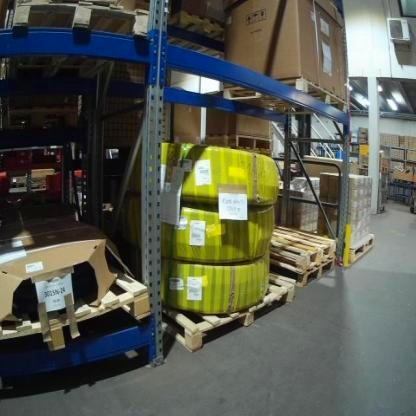pallets: (159, 221, 375, 351), (0, 0, 231, 67), (217, 73, 356, 122), (207, 129, 276, 159), (359, 161, 392, 173)
